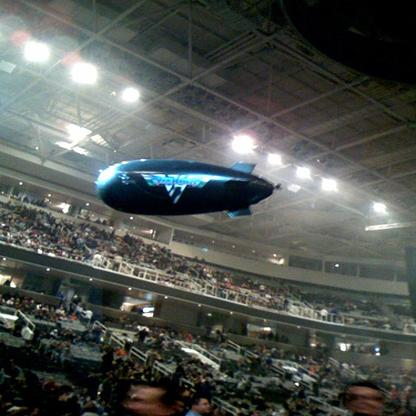Airship: (94, 158, 284, 222)
